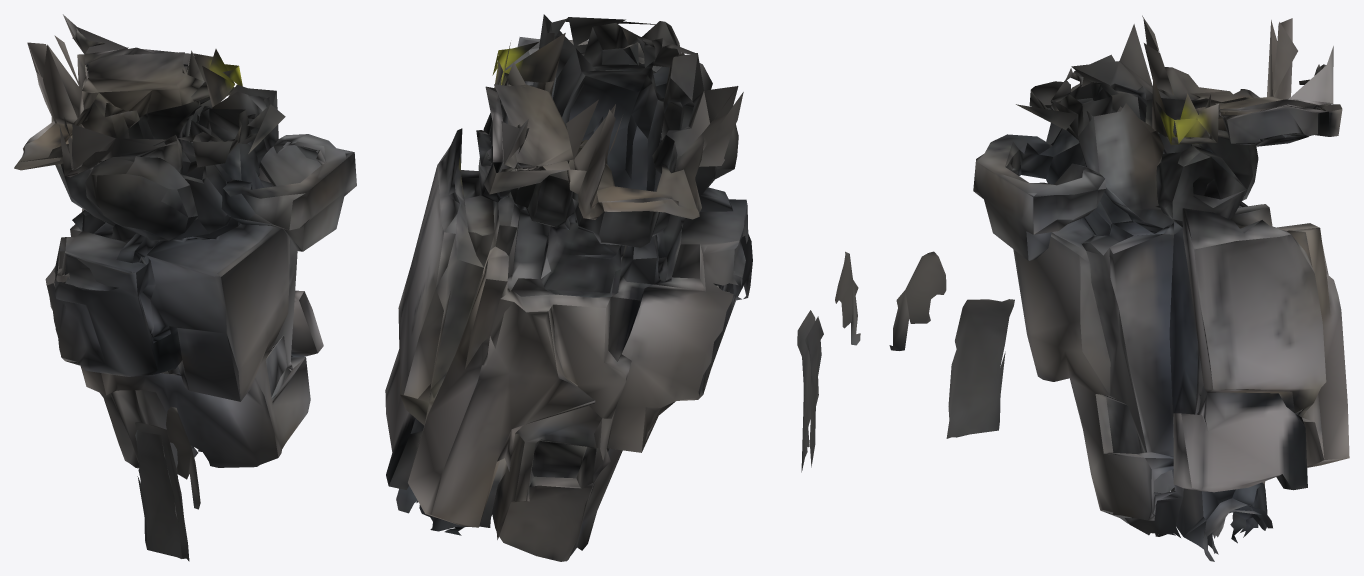
File: tankblock_arm_right_001_lower.glb
3 views of the same model, side by side, from view 1: azimuth 30°, elevation 25°; view 2: azimuth 150°, elevation 25°; view 3: azimuth 270°, elevation 25° (orthographic). The views are drawn at different scales.
Visible parts, largest first — view 1: W_arm_left_lower; view 2: W_arm_left_lower; view 3: W_arm_left_lower.
Boxes of the visible parts, x1,y1,x2,y2 form: W_arm_left_lower: (14, 14, 356, 561); W_arm_left_lower: (385, 14, 860, 561); W_arm_left_lower: (889, 15, 1349, 561).
Bounding box in the file's own units: 0.6462 × 0.9127 × 0.8442.
Materials: 2 (2 with a texture image).
